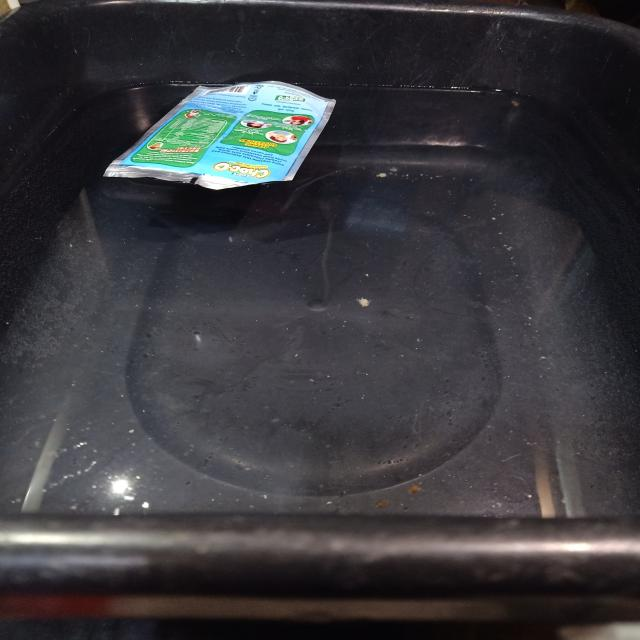Plastic Pouch: (104, 81, 336, 190)
